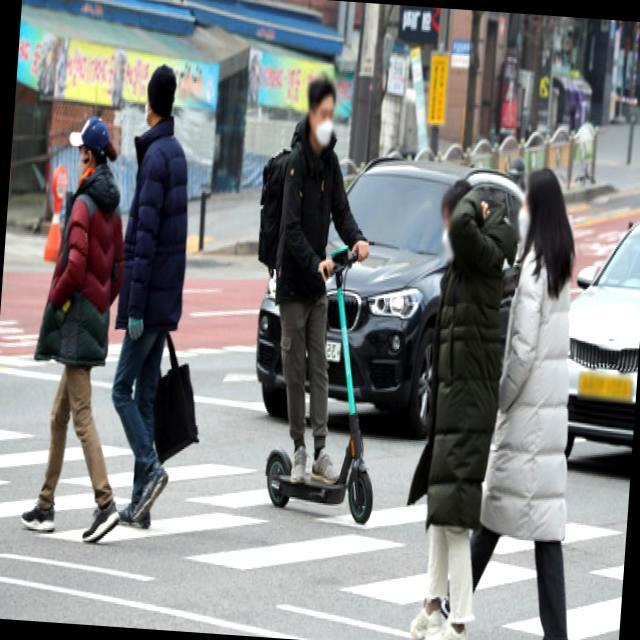bare_head: (296, 62, 354, 157)
human: (246, 70, 343, 475)
kickboard: (261, 444, 390, 538)
